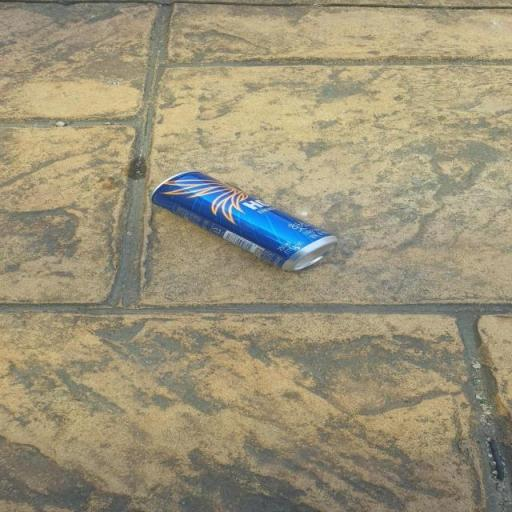metal: (100, 138, 416, 319)
